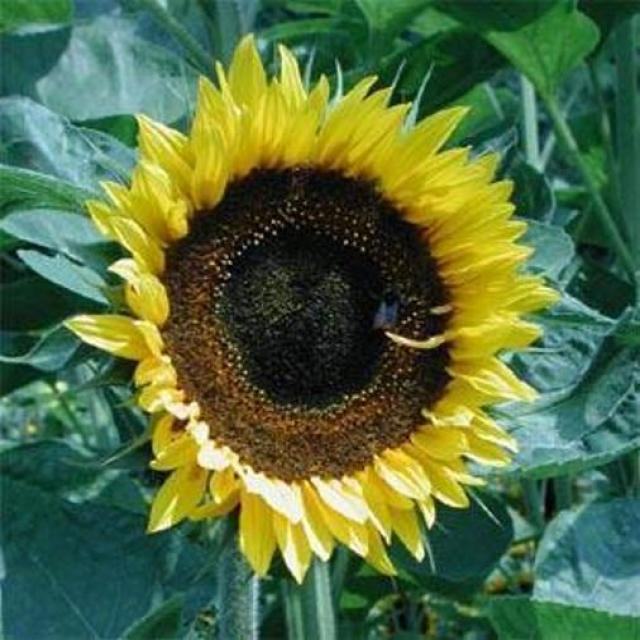sunflower: (62, 34, 562, 588)
